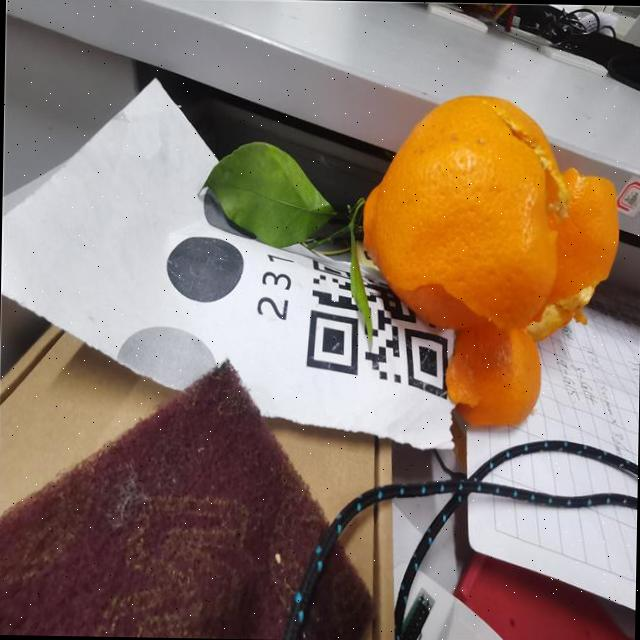orange-peel: (356, 90, 622, 429)
